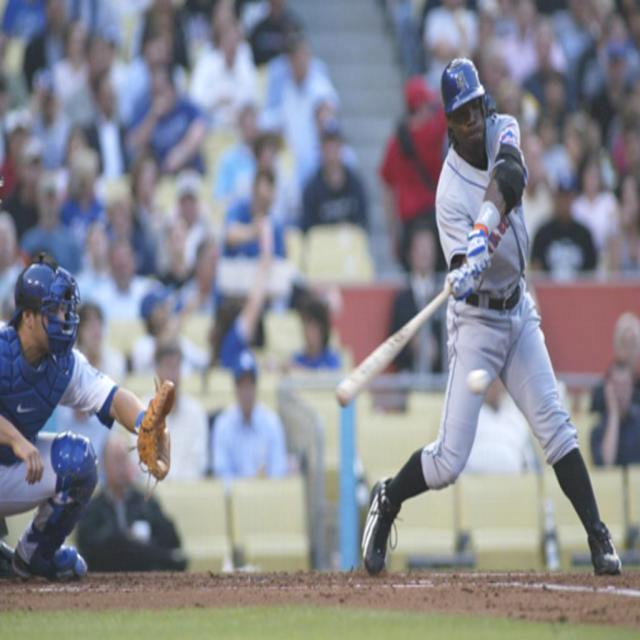baseball bat: (339, 286, 451, 408)
sports ball: (466, 370, 492, 394)
